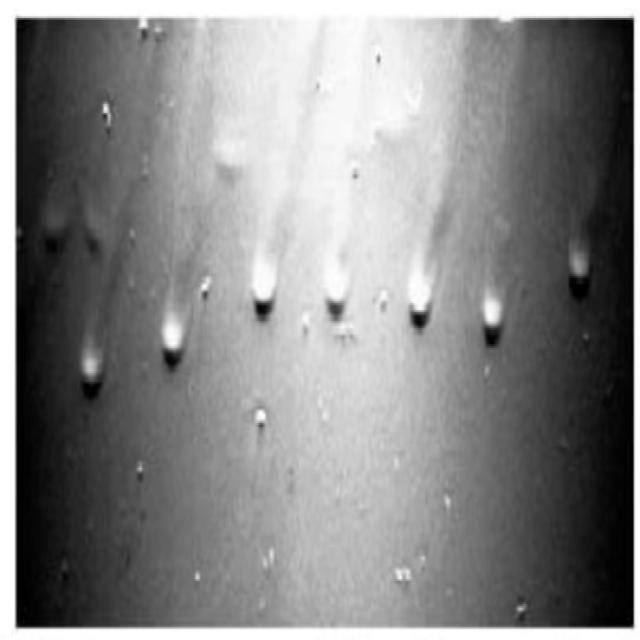paint drips: (19, 36, 205, 432), (395, 42, 615, 374), (215, 36, 370, 364)
